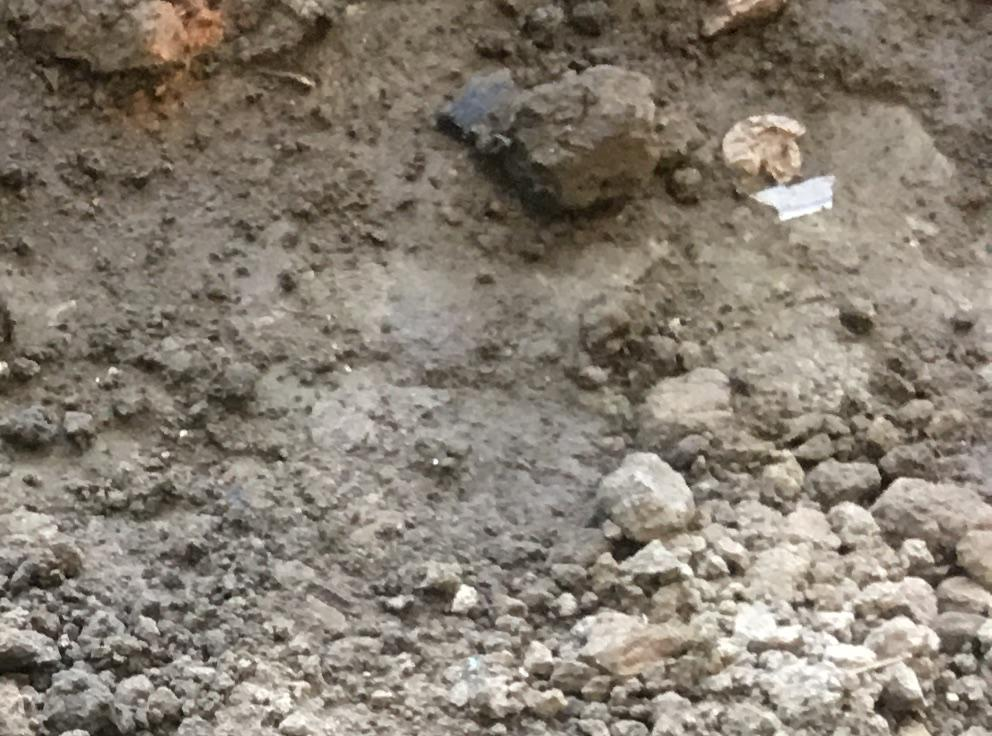block: (504, 73, 658, 207), (600, 453, 691, 544)
